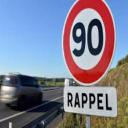speed_limit_90: (62, 0, 114, 85)
